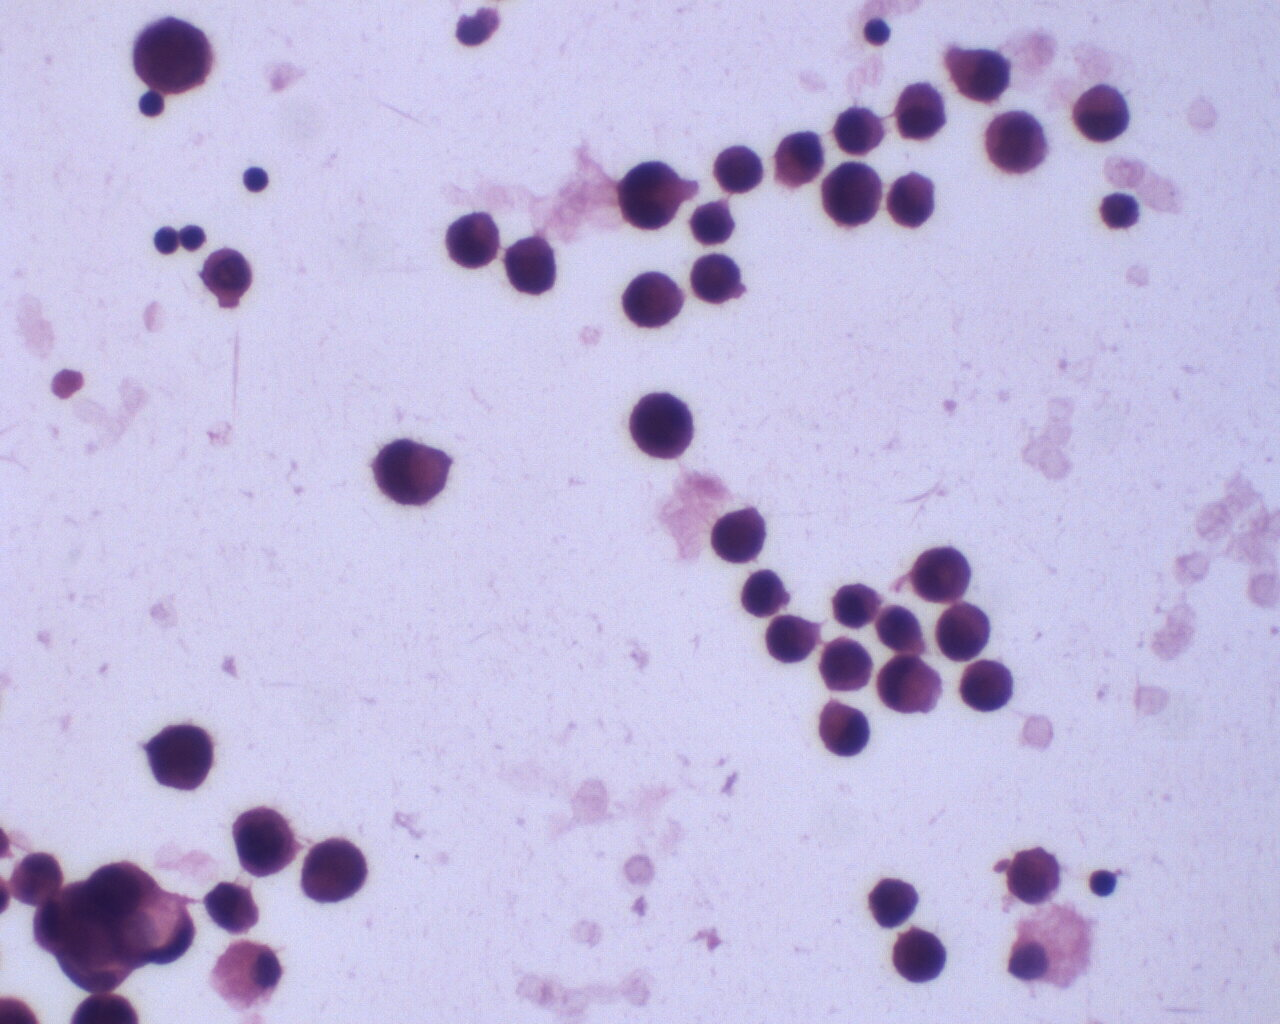ab: (129, 10, 217, 99), (135, 718, 224, 793), (624, 382, 698, 469), (616, 153, 686, 239), (231, 802, 299, 881), (983, 103, 1051, 182), (299, 836, 368, 910), (816, 158, 887, 228), (616, 269, 690, 332), (905, 545, 978, 602), (443, 208, 503, 276), (933, 601, 996, 665), (499, 235, 560, 299), (888, 925, 948, 990), (706, 503, 768, 564), (956, 659, 1020, 715), (196, 247, 256, 305), (1006, 844, 1063, 906), (762, 611, 819, 669), (817, 634, 872, 694), (867, 876, 923, 932), (688, 252, 746, 305), (829, 102, 888, 155), (709, 144, 766, 197), (738, 567, 792, 621), (830, 579, 881, 633)
histo: (206, 936, 285, 1013)
lymph: (856, 13, 897, 56), (1085, 866, 1121, 902), (238, 165, 272, 196), (152, 224, 180, 255)
